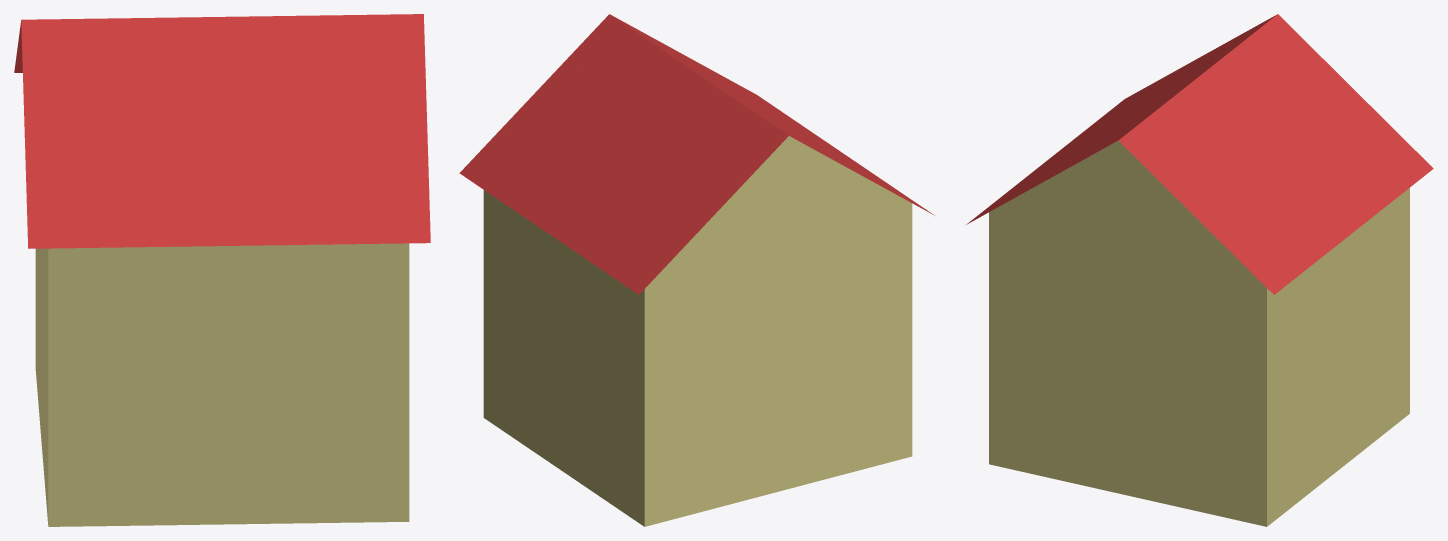
3 renders of one model, left to right at view 1: azimuth 30°, elevation 25°; view 2: azimuth 150°, elevation 25°; view 3: azimuth 270°, elevation 25°, orthographic. The views are drawn at different scales.
Bounding box in the file's own units: 13.23 × 13.36 × 11.36.
